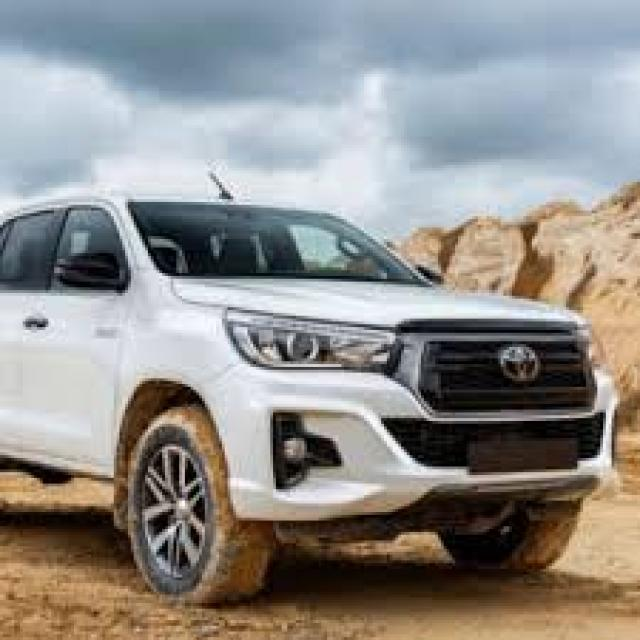Pickup Trucks: (3, 182, 620, 606)
